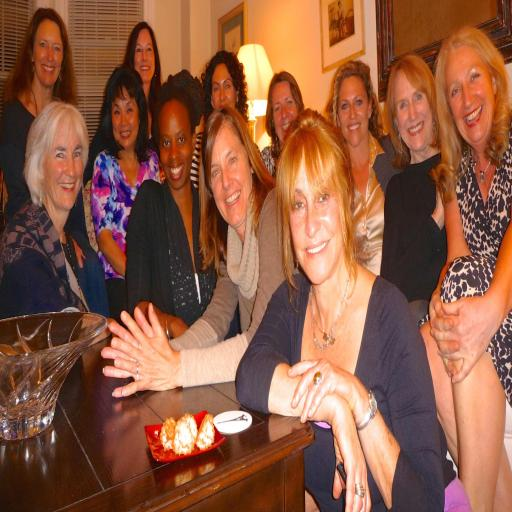person: (237, 110, 443, 511), (102, 108, 284, 397), (422, 27, 511, 511), (126, 70, 216, 337), (0, 102, 88, 318), (91, 67, 160, 319), (381, 55, 446, 321), (0, 9, 76, 221), (327, 60, 399, 274), (123, 22, 161, 151), (261, 71, 304, 176), (202, 51, 248, 122)
